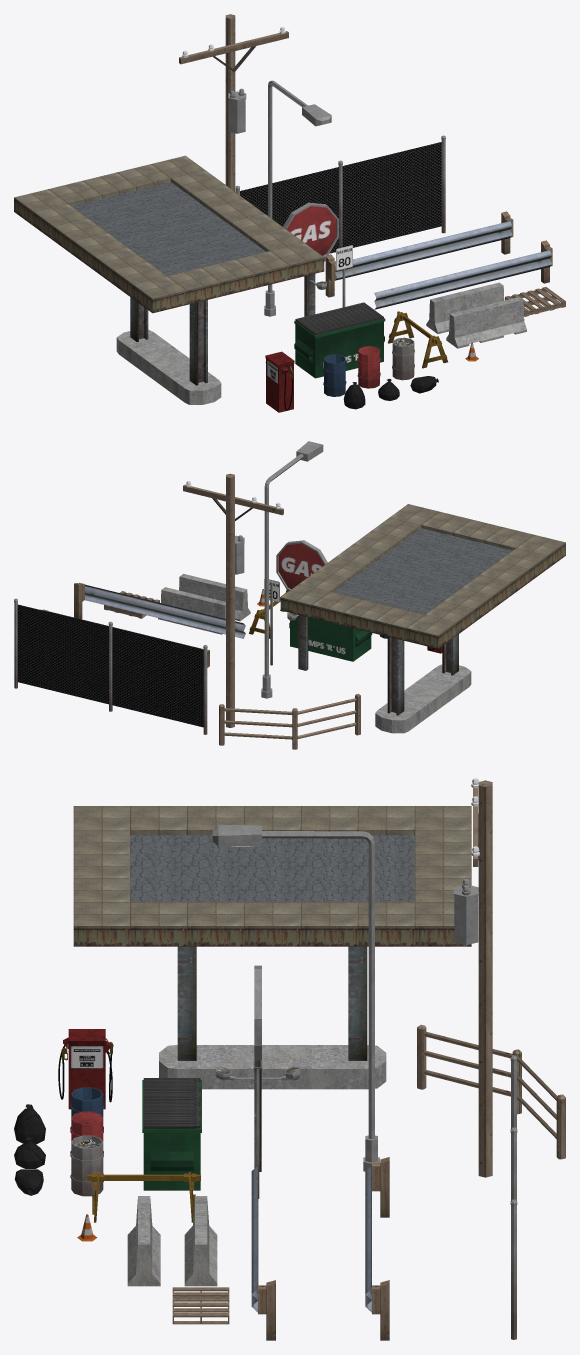
File: low-poly-city-fbx-no-textures.fbx
The picture shows the model from 3 angles, top to bottom: view 1: azimuth 30°, elevation 25°; view 2: azimuth 150°, elevation 25°; view 3: azimuth 270°, elevation 25°; orthographic projection. The views are drawn at different scales.
Parts seen in each view (by area): view 1: gas-station-awning, wire-fence-start, dumpster-closed, guard-rail-end, wire-fence-end, telephone-pole-transformer, guard-rail-start, barrier-wCutouts, gas-station-sign, barrier, street-light, gas-pump-red (+6 smaller); view 2: gas-station-awning, wire-fence-end, wire-fence-start, telephone-pole-transformer, guard-rail-start, gas-station-sign, dumpster-closed, street-light, wood-fence-end, barrier-wCutouts, barrier, wood-fence-start (+1 smaller); view 3: gas-station-awning, telephone-pole-transformer, dumpster-closed, street-light, gas-pump-red, guard-rail-end, barrier-wCutouts, barrier, gas-station-sign, pallet, guard-rail-start, wood-fence-start (+9 smaller).
Part boxes in pixels (bbox=[...]): gas-station-awning: bbox=[14, 155, 324, 404]; wire-fence-start: bbox=[342, 135, 445, 247]; dumpster-closed: bbox=[294, 302, 385, 378]; guard-rail-end: bbox=[325, 211, 513, 297]; wire-fence-end: bbox=[235, 160, 342, 253]; telephone-pole-transformer: bbox=[179, 14, 288, 191]; guard-rail-start: bbox=[374, 240, 552, 309]; barrier-wCutouts: bbox=[446, 297, 526, 348]; gas-station-sign: bbox=[283, 202, 338, 316]; barrier: bbox=[426, 282, 504, 333]; street-light: bbox=[264, 80, 331, 316]; gas-pump-red: bbox=[265, 351, 294, 412]; gas-station-awning: bbox=[280, 504, 565, 733]; wire-fence-end: bbox=[108, 621, 207, 734]; wire-fence-start: bbox=[14, 598, 108, 704]; telephone-pole-transformer: bbox=[183, 473, 283, 727]; guard-rail-start: bbox=[74, 582, 245, 638]; gas-station-sign: bbox=[276, 540, 327, 670]; dumpster-closed: bbox=[289, 616, 372, 661]; street-light: bbox=[261, 441, 323, 698]; wood-fence-end: bbox=[219, 704, 297, 749]; barrier-wCutouts: bbox=[179, 574, 250, 621]; barrier: bbox=[158, 587, 225, 634]; wood-fence-start: bbox=[297, 693, 360, 738]; gas-station-awning: bbox=[73, 806, 471, 1089]; telephone-pole-transformer: bbox=[453, 778, 492, 1177]; dumpster-closed: bbox=[142, 1078, 201, 1190]; street-light: bbox=[212, 824, 379, 1171]; gas-pump-red: bbox=[58, 1029, 113, 1109]; guard-rail-end: bbox=[365, 1157, 389, 1340]; barrier-wCutouts: bbox=[127, 1196, 160, 1286]; barrier: bbox=[184, 1196, 217, 1286]; gas-station-sign: bbox=[215, 965, 300, 1171]; pallet: bbox=[172, 1287, 229, 1324]; guard-rail-start: bbox=[251, 1165, 275, 1340]; wood-fence-start: bbox=[417, 1024, 512, 1096].
Size of the model in its own units: 1354 by 773 by 970.
